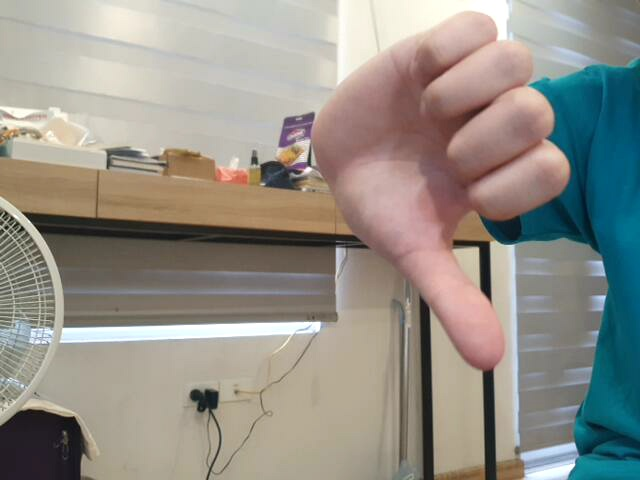ThumbsDown: (306, 7, 575, 378)
